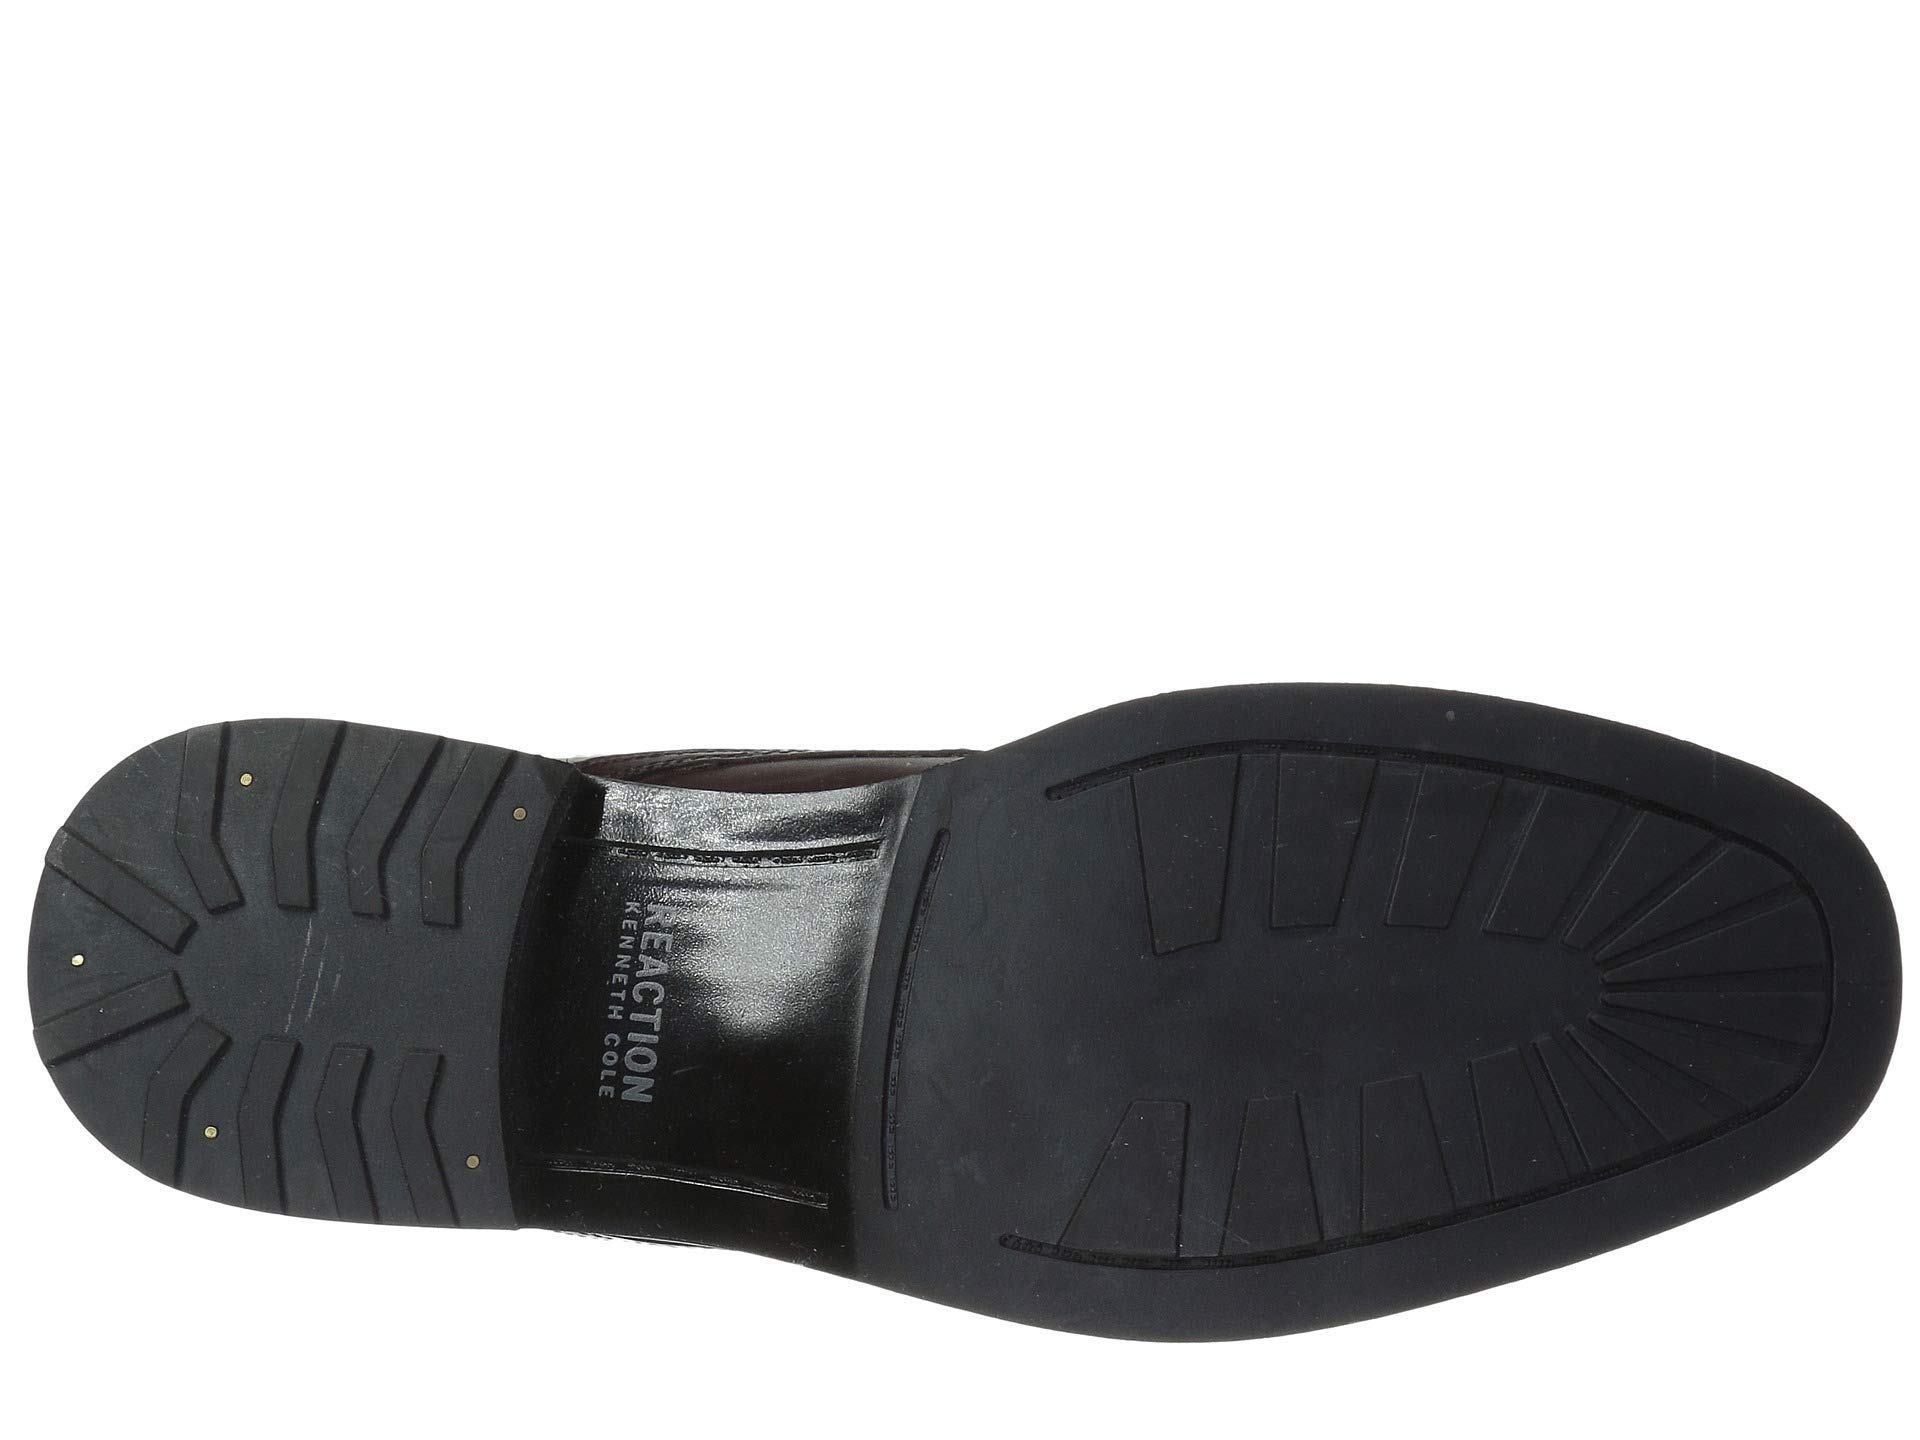chevron: (86, 976, 463, 1302), (106, 675, 358, 944)
quad: (1098, 741, 1586, 1278), (86, 976, 463, 1302), (106, 675, 358, 944)
